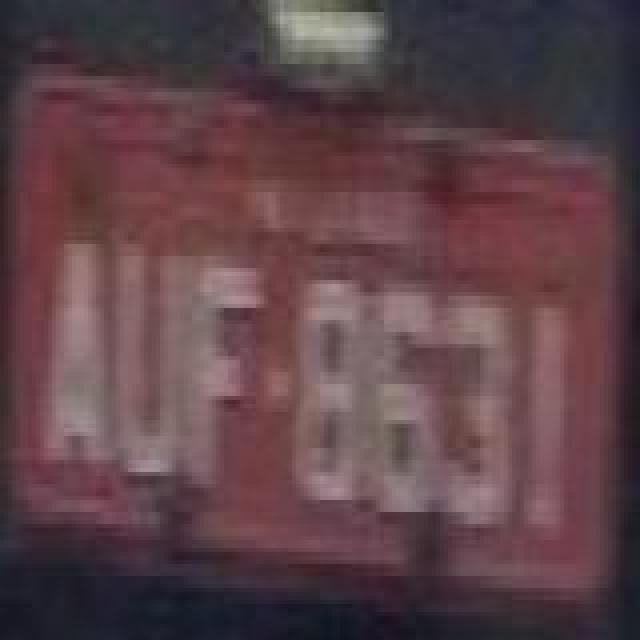1: (524, 292, 572, 540)
3: (442, 296, 518, 536)
6: (364, 278, 436, 530)
8: (290, 274, 366, 510)
A: (38, 234, 114, 470)
F: (182, 256, 266, 496)
U: (114, 246, 190, 490)
